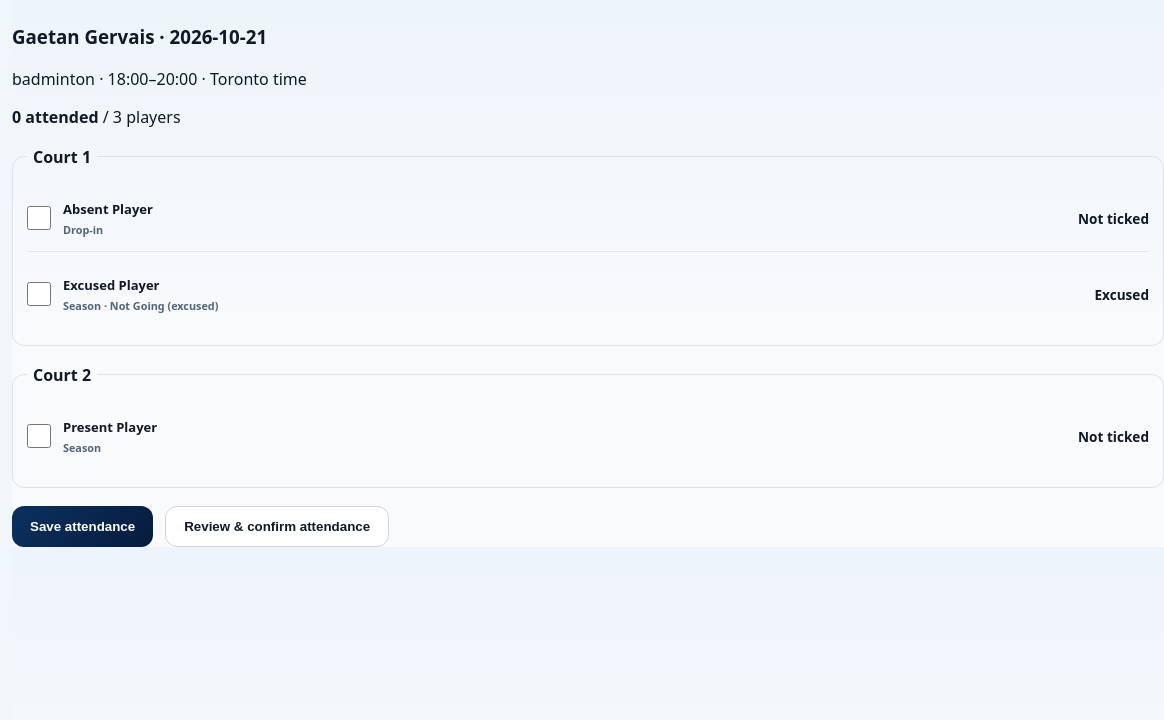
Convenor attendance › groups and sorts courts, and saves a draft without confirming
Expected: the text "Present Player" is shown, [63,418,157,436]
Expected: the text "Court 1" is shown, [33,146,91,168]
Click the checkbox labelled "Present Player Season Not ticked".
click(39, 436)  # box [27,424,51,448]
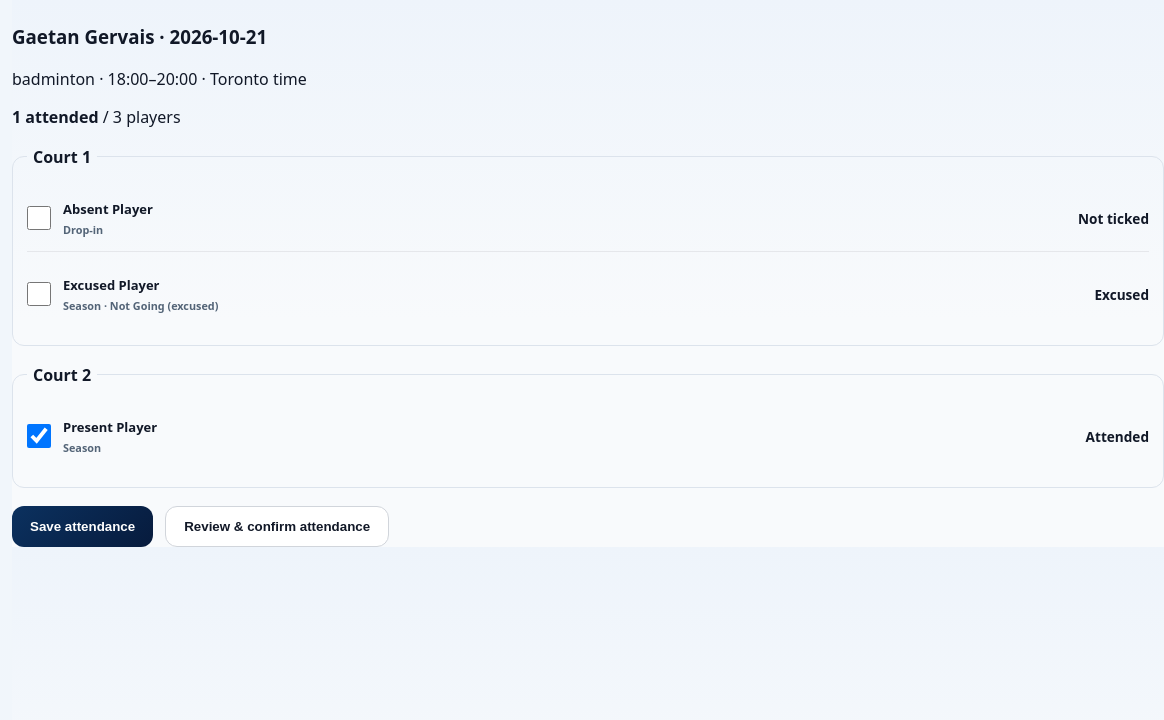
Click the button "Save attendance".
click(83, 526)  # box [12,506,153,547]
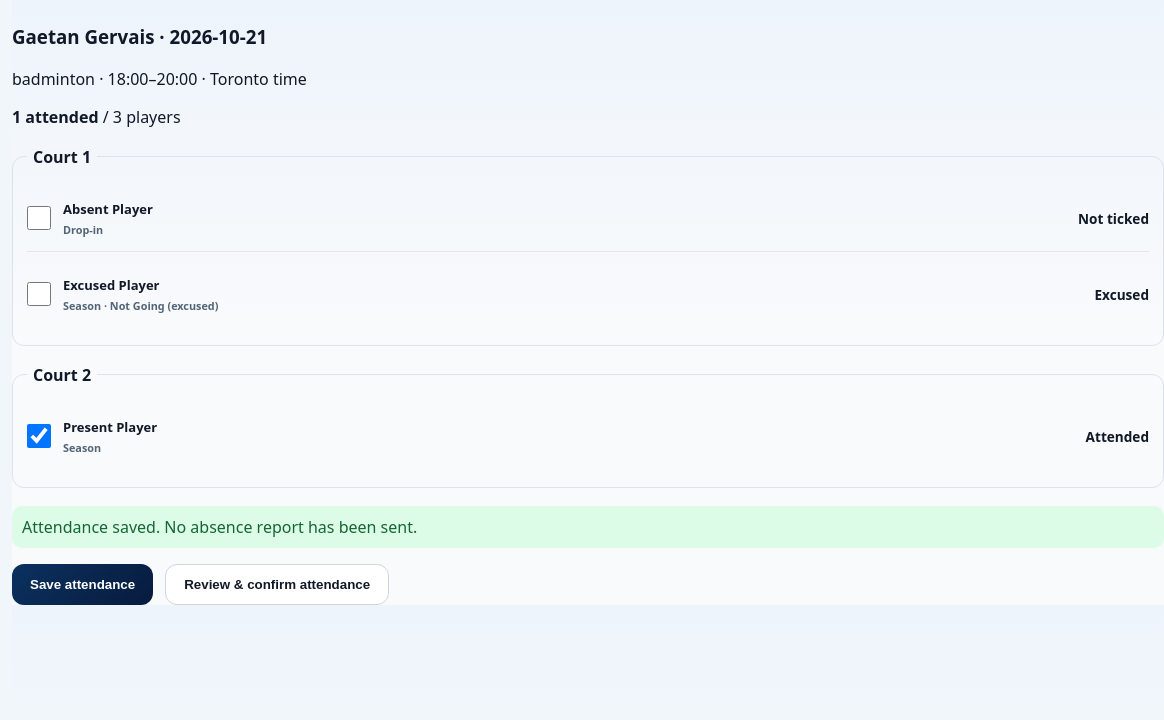
Expected: the text "Attendance saved. No absence report has been sent." is shown, [12,506,1163,548]
